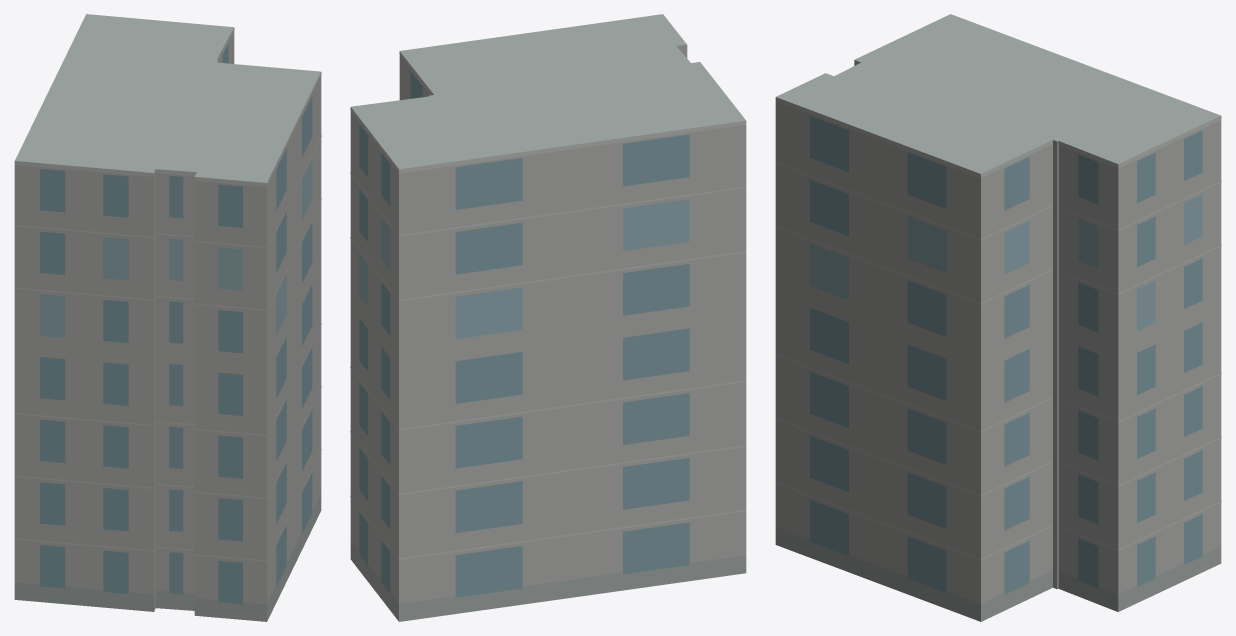
The model's file is survey-upis-32522814.glb.
3 views of the same model, side by side, from view 1: azimuth 30°, elevation 25°; view 2: azimuth 150°, elevation 25°; view 3: azimuth 270°, elevation 25° (orthographic). The views are drawn at different scales.
Parts seen in each view (by area): view 1: survey-upis-32522814.tmp; view 2: survey-upis-32522814.tmp; view 3: survey-upis-32522814.tmp.
Boxes of the visible parts, box(x1,y1,x2,y2) form: survey-upis-32522814.tmp: box(14, 14, 321, 621); survey-upis-32522814.tmp: box(350, 14, 746, 621); survey-upis-32522814.tmp: box(775, 14, 1221, 621).
Bounding box in the file's own units: 19.64 × 25.6 × 23.1.
